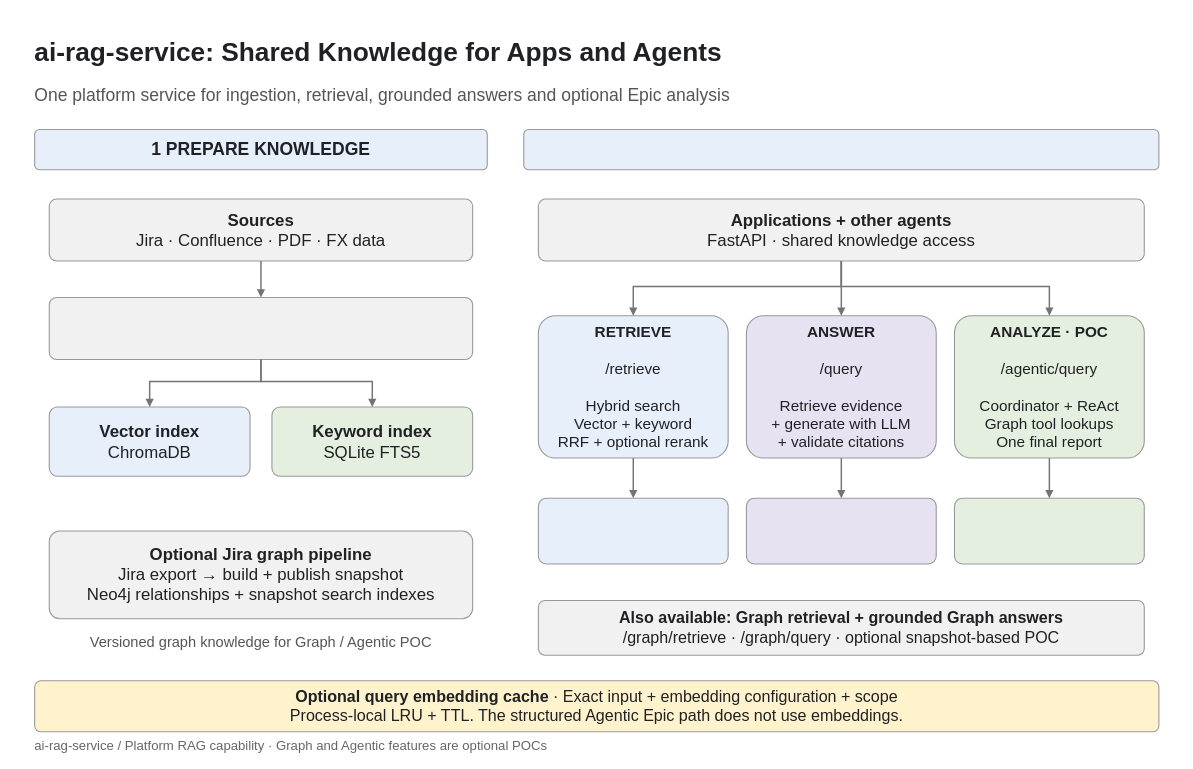
Image size: 1193x769. Some labels were removed from this diagram. Here are the shapes that lost their labels. From the top down, the centre of each, then its label:
At point (841, 149): "2 QUERY THROUGH A SHARED API".
At point (260, 328): "Ingest + index Extract text · chunk · embed".
At point (632, 530): "Evidence chunks Caller owns its LLM".
At point (841, 530): "Grounded answer Source citations".
At point (1049, 530): "Epic report Facts + coverage".
